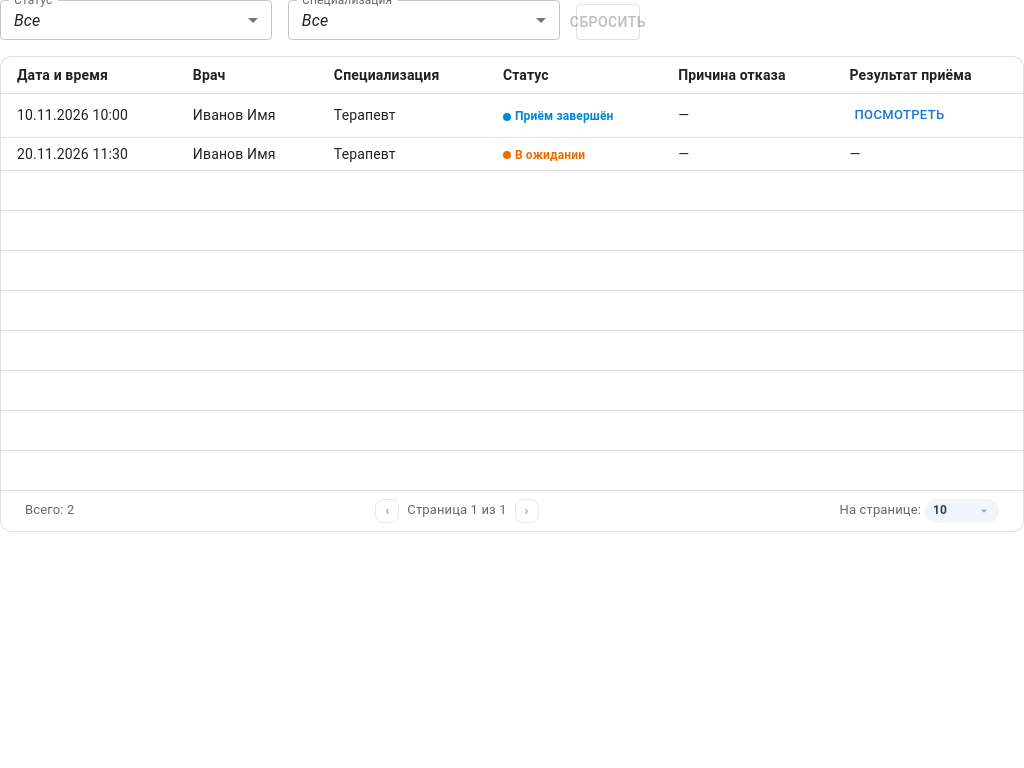
Scenario: HistoryTable (5.5: результат приёма в истории) › просмотр показывает заключение read-only, без кнопки правки (9.2 AC)
Expected: the column heading "Результат приёма" is shown, [834, 57, 1023, 94]
Click the button "Посмотреть": (900, 115) [850, 100, 950, 131]
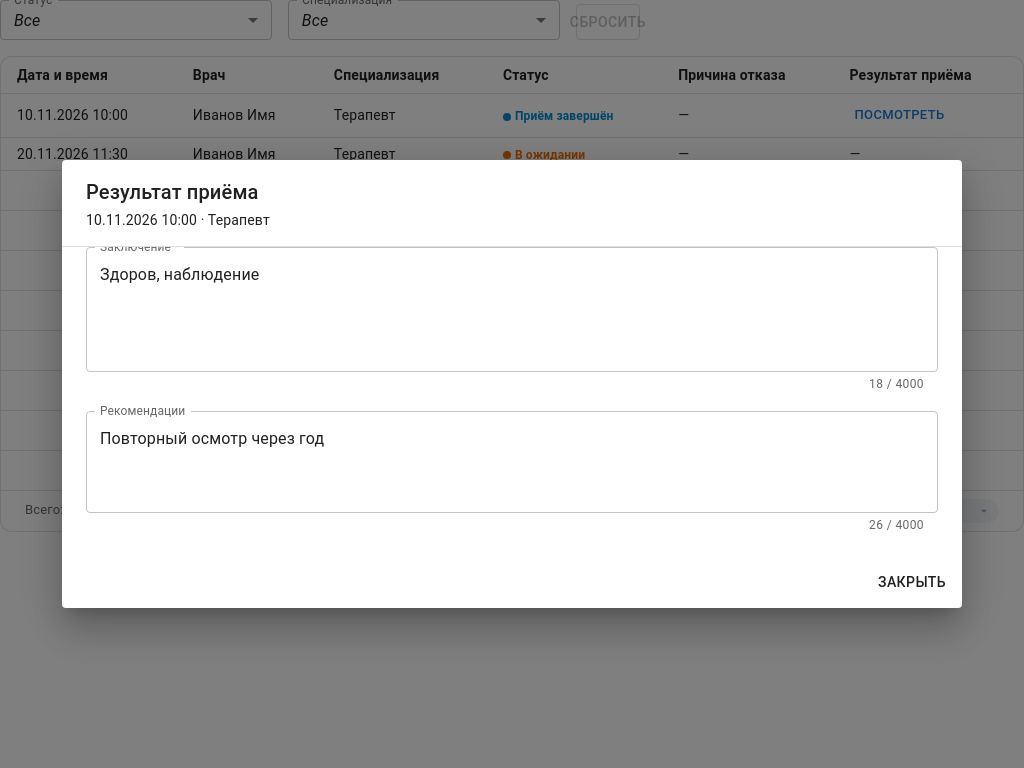
Expected: the heading "Результат приёма 10.11.2026 10:00 · Терапевт" is shown, [62, 160, 962, 247]
Expected: the text box showing "Здоров, наблюдение" is shown, [100, 263, 924, 355]
Expected: the text box showing "Повторный осмотр через год" is shown, [100, 427, 924, 496]
